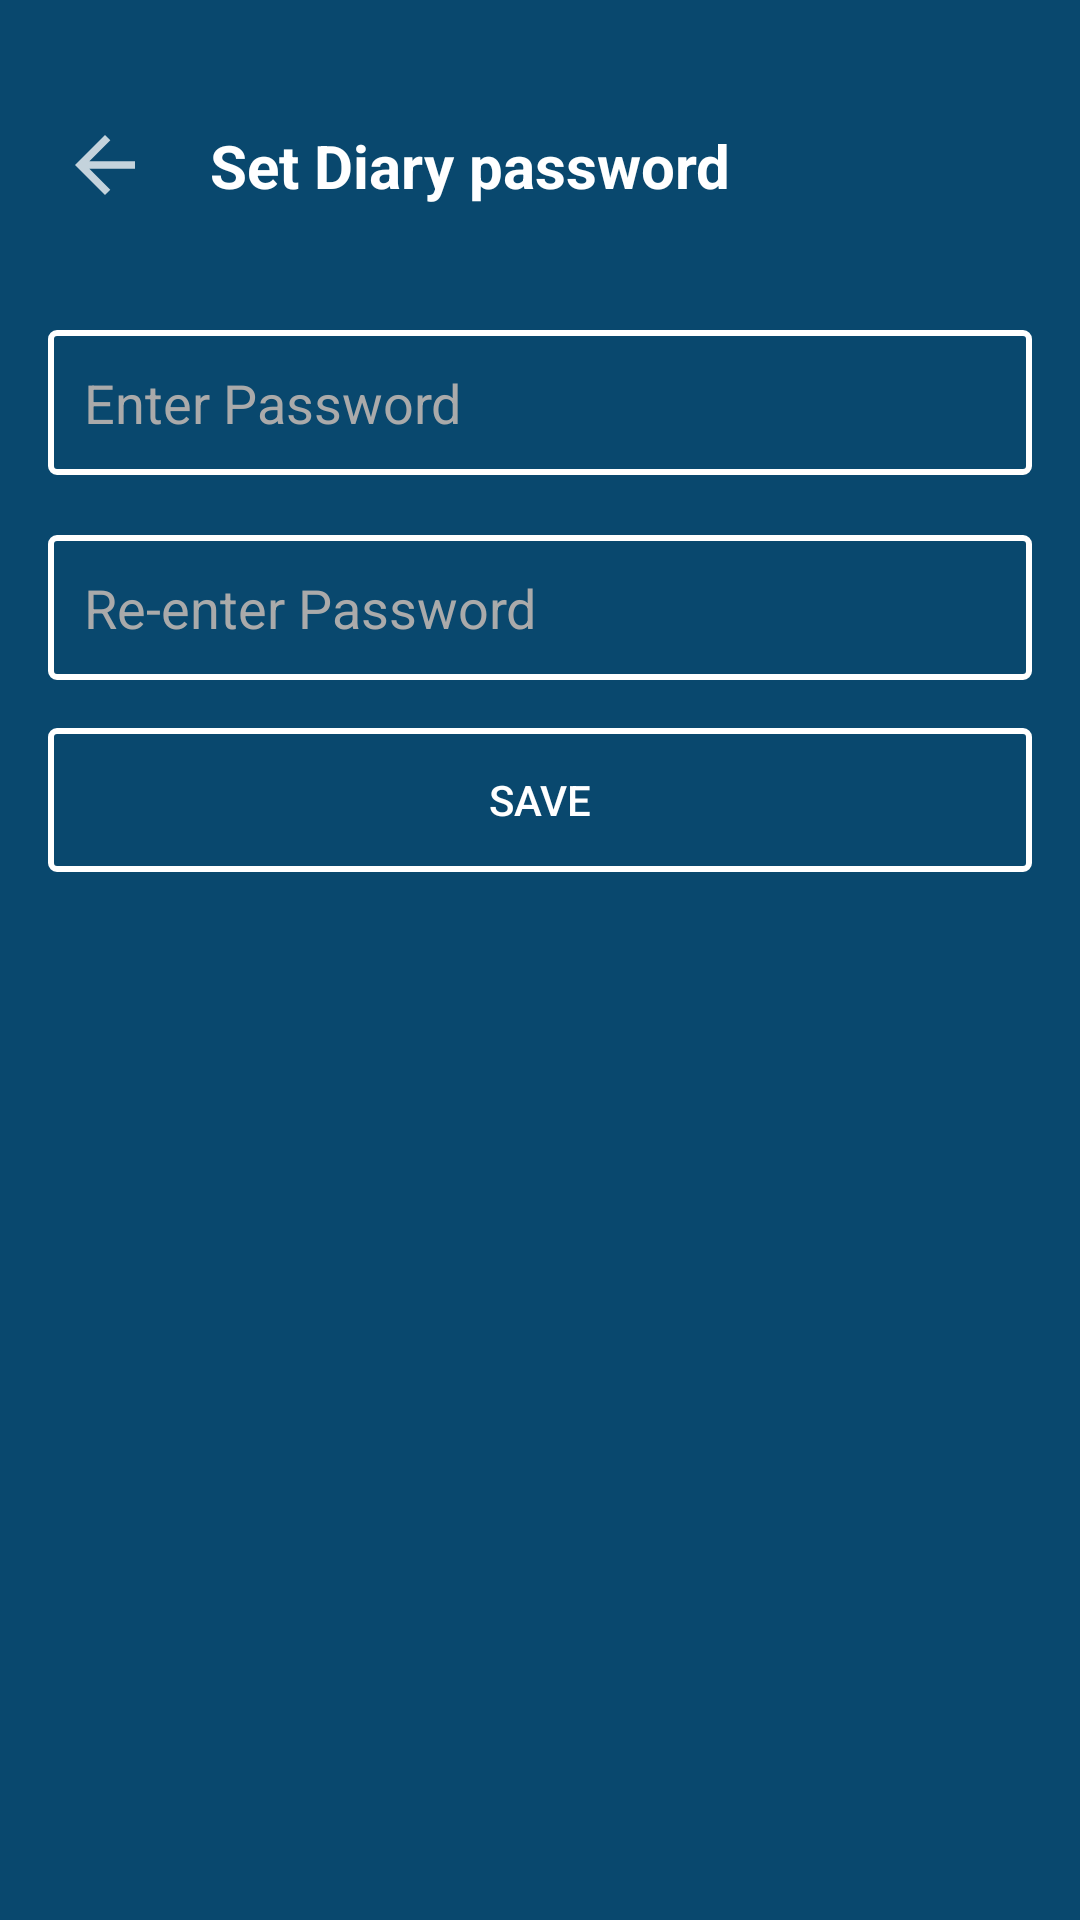

Where to tap for icons on this 1080×1920 app screen, as (x=x, y=y):
arrow back: (x=105, y=165)
